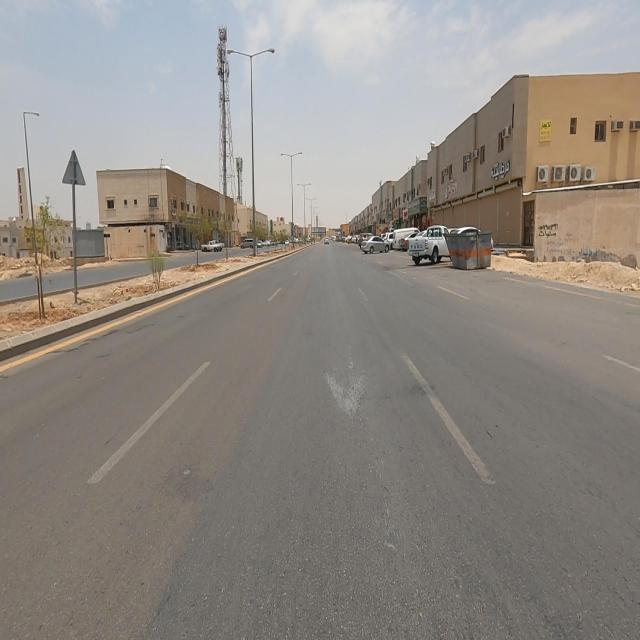Graffiti: (539, 223, 560, 240), (548, 241, 568, 255), (565, 233, 573, 242)
